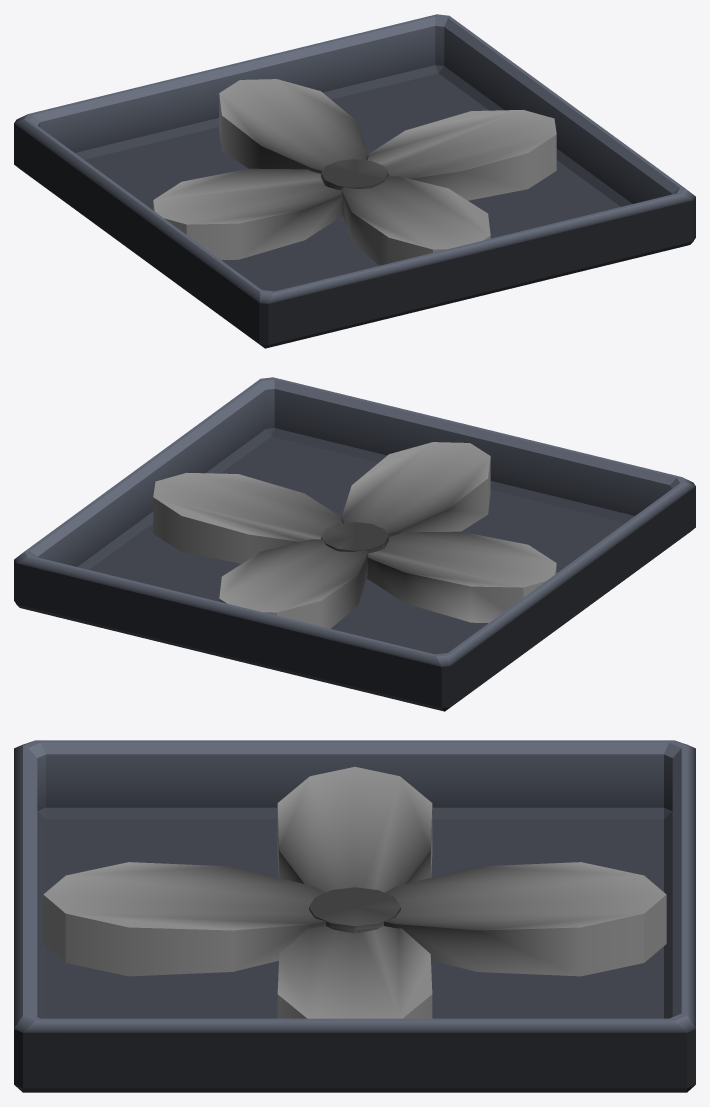
Rendered from Fan.fbx.
The picture shows the model from 3 angles, top to bottom: view 1: azimuth 30°, elevation 25°; view 2: azimuth 150°, elevation 25°; view 3: azimuth 270°, elevation 25°; orthographic projection. The views are drawn at different scales.
Parts seen in each view (by area): view 1: Cube, Cylinder.001; view 2: Cube, Cylinder.001; view 3: Cube, Cylinder.001.
Boxes of the visible parts, x1,y1,x2,y2 form: Cube: (14, 14, 695, 348); Cylinder.001: (153, 79, 556, 265); Cube: (14, 377, 695, 711); Cylinder.001: (153, 442, 556, 628); Cube: (14, 740, 695, 1092); Cylinder.001: (43, 767, 666, 1018).
Bounding box in the file's own units: 756 × 87.67 × 756.
